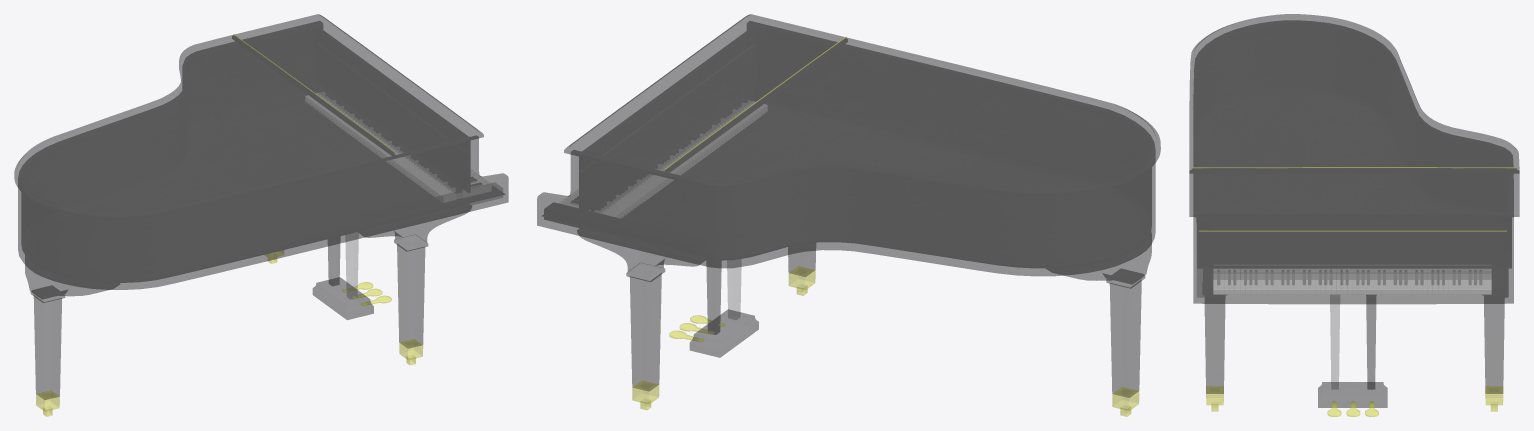
The model's file is piano.glb.
3 renders of one model, left to right at view 1: azimuth 30°, elevation 25°; view 2: azimuth 150°, elevation 25°; view 3: azimuth 270°, elevation 25°, orthographic. The views are drawn at different scales.
Visible parts, largest first — view 1: 10384_GrandPiano; view 2: 10384_GrandPiano; view 3: 10384_GrandPiano.
Part boxes in pixels (x1,y1,x2,y2): 10384_GrandPiano: [14, 14, 508, 416]; 10384_GrandPiano: [537, 14, 1160, 416]; 10384_GrandPiano: [1189, 14, 1519, 416].
Bounding box in the file's own units: 241 × 121 × 158.
Materials: 4 (3 with a texture image).
